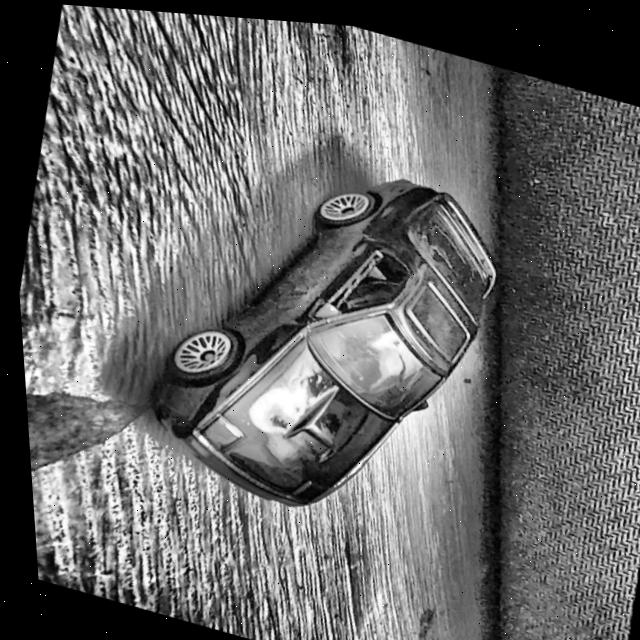car: (116, 111, 522, 551)
